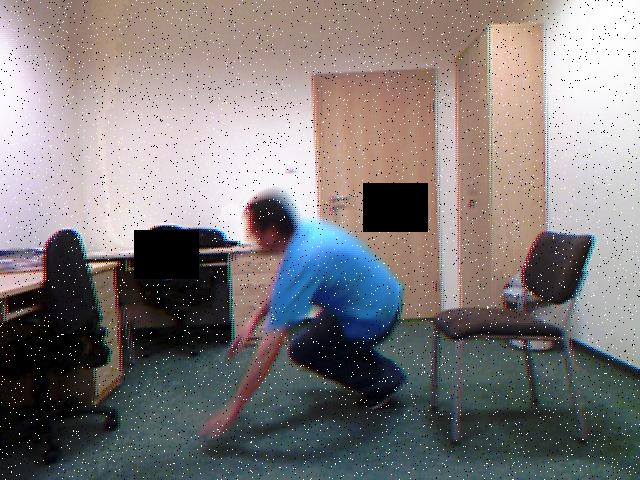near-fall: (192, 175, 421, 447)
